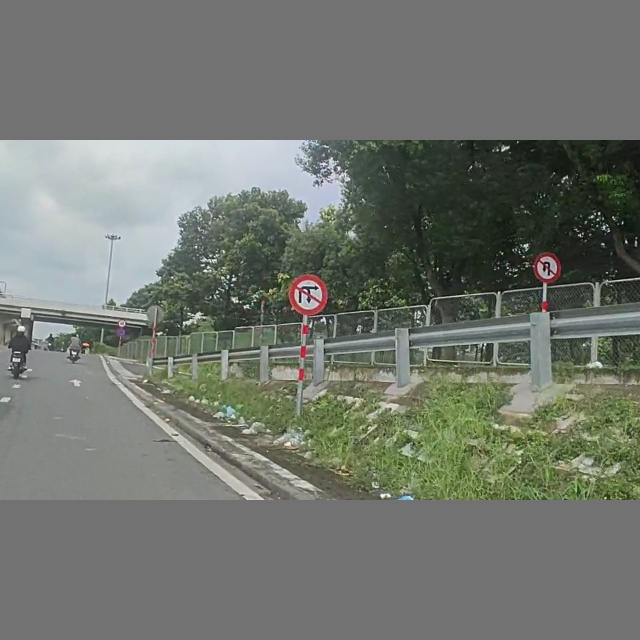P.124a*: (533, 252, 562, 283)
P.124d: (289, 274, 327, 316)
P.127*40: (119, 319, 127, 327)
P.130: (116, 328, 126, 336)
